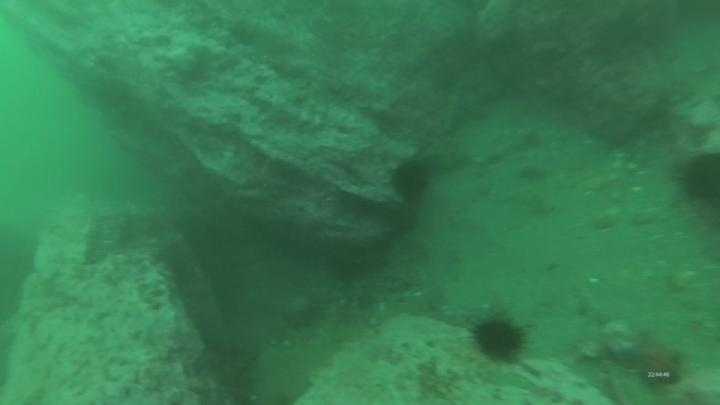echinus: (468, 311, 531, 365), (674, 148, 720, 210), (388, 156, 433, 203)
starfish: (615, 328, 690, 394)
